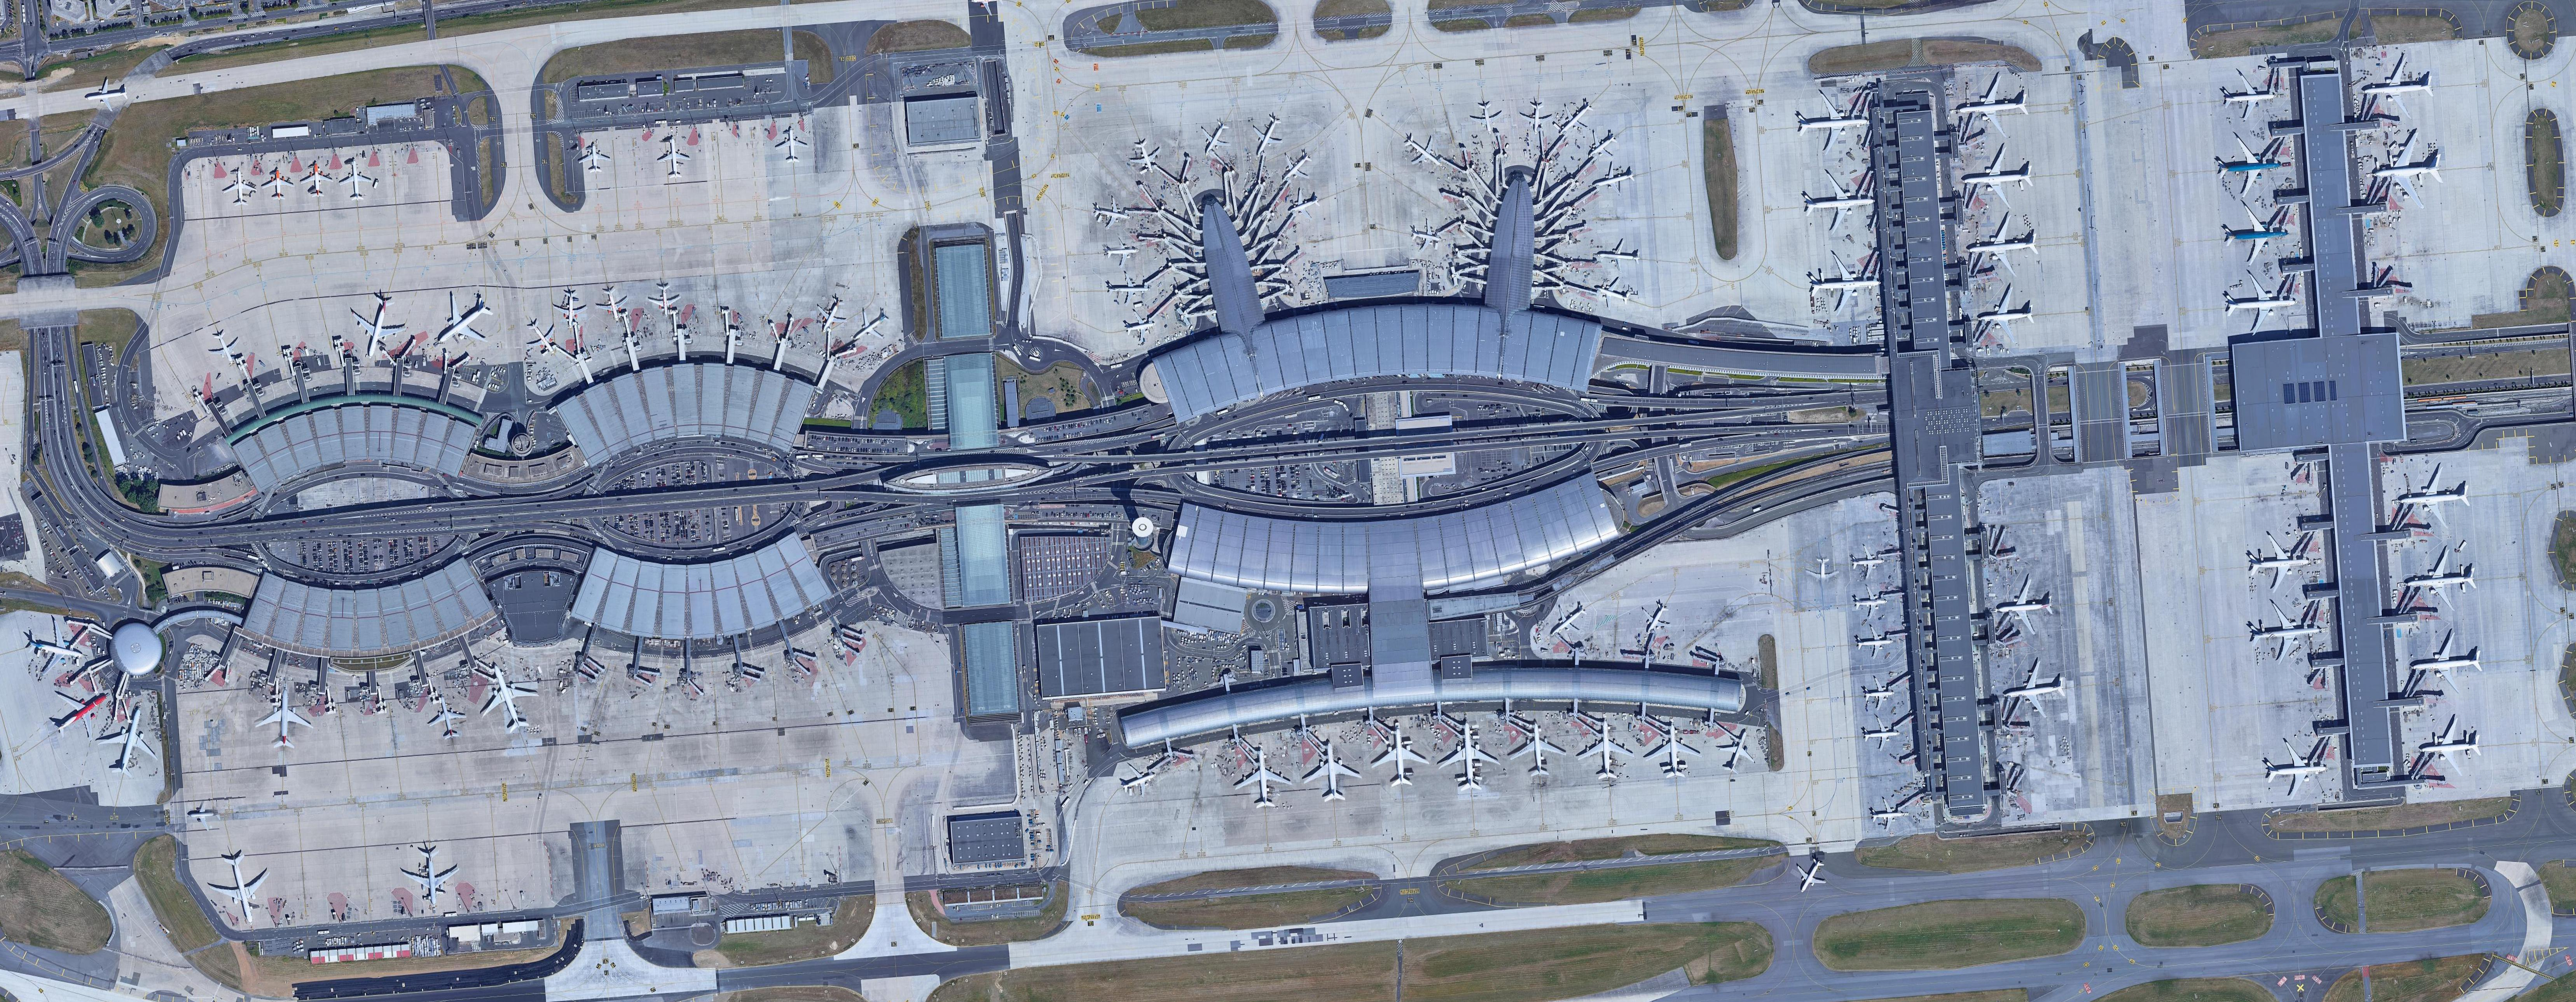plane: (421, 281, 508, 366), (467, 655, 550, 744), (38, 672, 120, 752), (2369, 131, 2450, 214), (204, 846, 281, 928), (94, 700, 166, 780), (1807, 246, 1886, 319), (1960, 145, 2040, 215), (1796, 85, 1873, 158), (1801, 164, 1879, 235), (2397, 463, 2474, 534), (2408, 631, 2487, 700), (2249, 598, 2325, 669), (342, 287, 411, 365), (1998, 657, 2073, 726), (2403, 549, 2479, 618), (2361, 56, 2438, 123), (1965, 215, 2042, 281), (1957, 74, 2031, 141), (1437, 721, 1503, 795), (2224, 271, 2300, 335), (2215, 130, 2284, 199), (2221, 202, 2293, 268), (21, 616, 90, 680), (1370, 723, 1433, 793), (2417, 716, 2486, 779), (2262, 739, 2330, 802), (1300, 741, 1364, 805), (1232, 746, 1293, 813), (399, 841, 462, 905), (1993, 578, 2055, 641), (1643, 719, 1705, 782), (1975, 286, 2039, 347), (2247, 532, 2313, 591), (1576, 719, 1638, 780), (1508, 719, 1569, 780), (255, 688, 312, 749), (1393, 122, 1451, 177), (1710, 723, 1766, 780), (2221, 69, 2277, 123), (844, 301, 899, 353), (1549, 92, 1600, 145), (517, 310, 567, 361), (422, 692, 472, 742), (1273, 140, 1321, 192), (1244, 110, 1290, 164), (1544, 595, 1592, 646), (1786, 853, 1833, 902), (1115, 756, 1161, 803), (1590, 158, 1640, 202), (1193, 115, 1239, 161), (808, 294, 854, 338), (1579, 123, 1625, 168), (84, 74, 131, 115), (1635, 596, 1677, 641), (1592, 273, 1635, 315), (202, 325, 245, 368), (1089, 194, 1134, 235), (1125, 135, 1166, 177), (1283, 184, 1326, 225), (337, 158, 376, 202), (654, 136, 693, 179), (1598, 237, 1641, 276), (1120, 306, 1160, 347), (593, 284, 633, 324), (1408, 215, 1446, 256), (1106, 271, 1150, 306), (297, 161, 335, 200), (1467, 100, 1507, 138), (1855, 624, 1894, 660), (222, 169, 258, 207), (1850, 544, 1886, 581), (1865, 716, 1902, 752), (775, 126, 810, 166), (1518, 100, 1554, 136), (1871, 797, 1907, 833), (554, 289, 588, 327), (1853, 583, 1888, 621), (1863, 675, 1897, 713), (1104, 235, 1140, 269), (647, 283, 682, 317), (261, 168, 296, 202), (1806, 557, 1840, 590), (578, 143, 613, 174), (187, 800, 220, 830)
